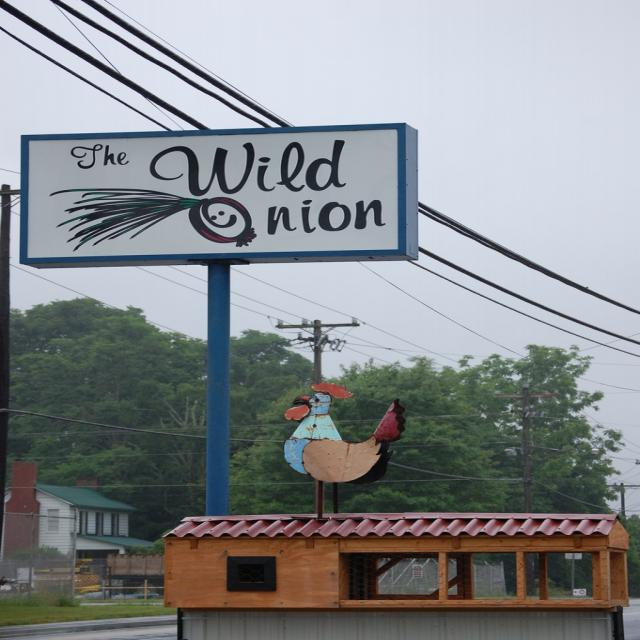Chicken: (285, 387, 406, 503)
